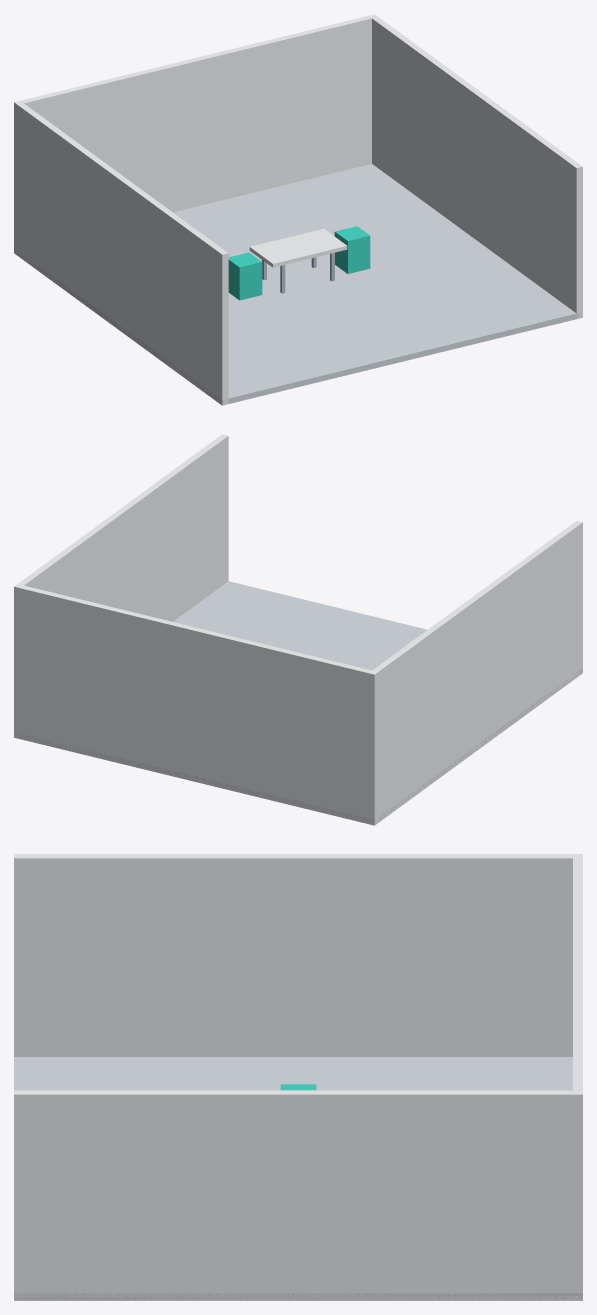
3 views of the same model, one above another, from view 1: azimuth 30°, elevation 25°; view 2: azimuth 150°, elevation 25°; view 3: azimuth 270°, elevation 25° (orthographic). The views are drawn at different scales.
Parts seen in each view (by area): view 1: Exhibition Booth Concept; view 2: Exhibition Booth Concept; view 3: Exhibition Booth Concept.
Boxes of the visible parts, x1,y1,x2,y2 form: Exhibition Booth Concept: [14, 14, 582, 405]; Exhibition Booth Concept: [14, 434, 582, 825]; Exhibition Booth Concept: [14, 854, 582, 1300].
Size of the model in its own units: 8 by 3.2 by 8.
